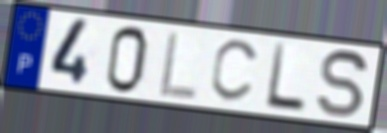0: (104, 24, 152, 95)
4: (48, 15, 96, 90)
C: (208, 38, 263, 106)
L: (263, 40, 308, 115), (157, 29, 200, 102)
S: (315, 47, 371, 121)
